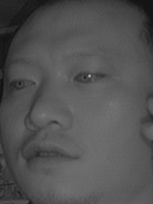eye: (70, 65, 104, 86), (8, 73, 41, 93)
mouth: (16, 135, 78, 173)
